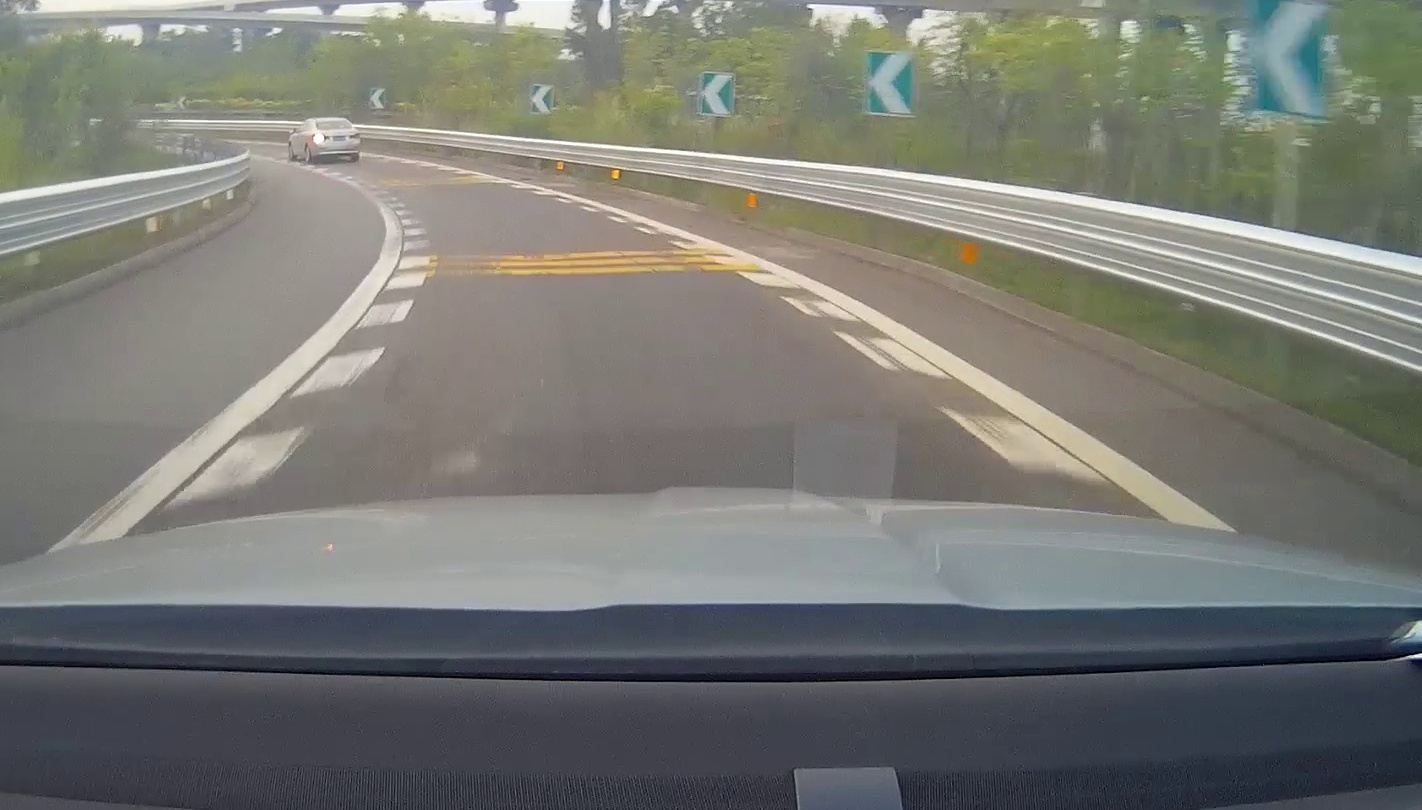L_light: (313, 134, 329, 143)
R_light: (349, 133, 360, 139)
T_light: (331, 126, 341, 130)
day-left: (312, 117, 360, 163)
